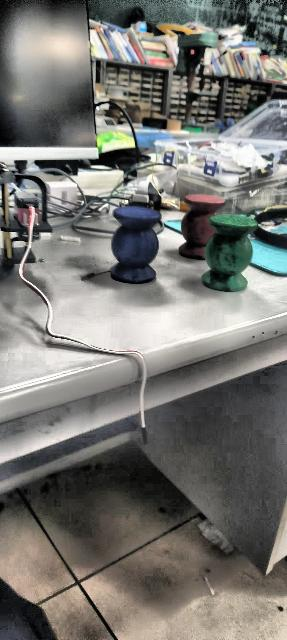blue: (110, 205, 162, 283)
green: (200, 213, 257, 292)
red: (179, 194, 223, 260)
